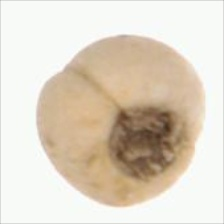L4: (35, 36, 206, 208)
